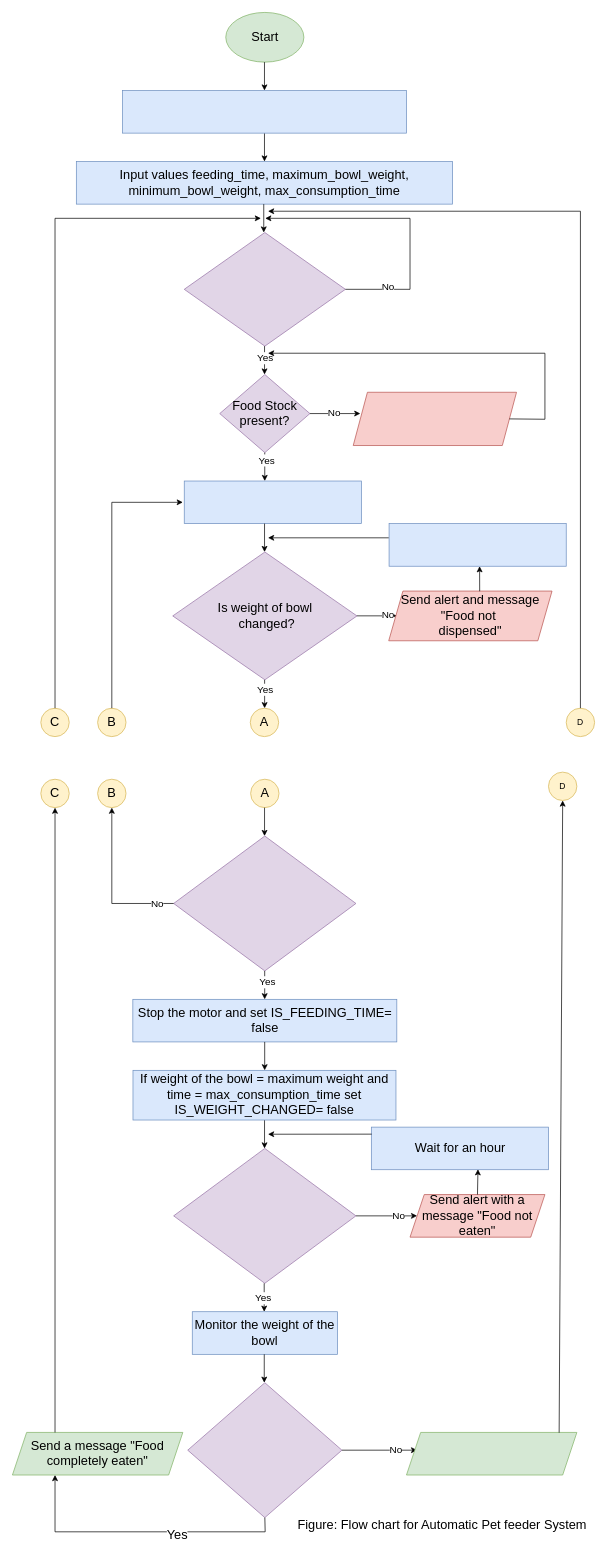
Image size: 607x1554. Some labels were removed from this diagram. The shapes that lost their labels are listed below. From the top down, each one's centre as x and y in pixels, then its label:
pixel 264 111: Set power on, initialize system time variable system_time
pixel 264 289: Is system_time = feeding_time?
pixel 435 419: Send alert and message "Food stock empty"
pixel 272 502: Rotate the motor, dispense food and monitor the weight of the bowl
pixel 477 544: Wait for manual attention from user
pixel 264 903: Is weight of bowl= maximum weight of bowl ?
pixel 264 1215: IS_WEIGHT_CHANGED = true?
pixel 264 1450: Is weight = minimum weight after consumption?
pixel 491 1453: Send a message "Food Partially eaten"
